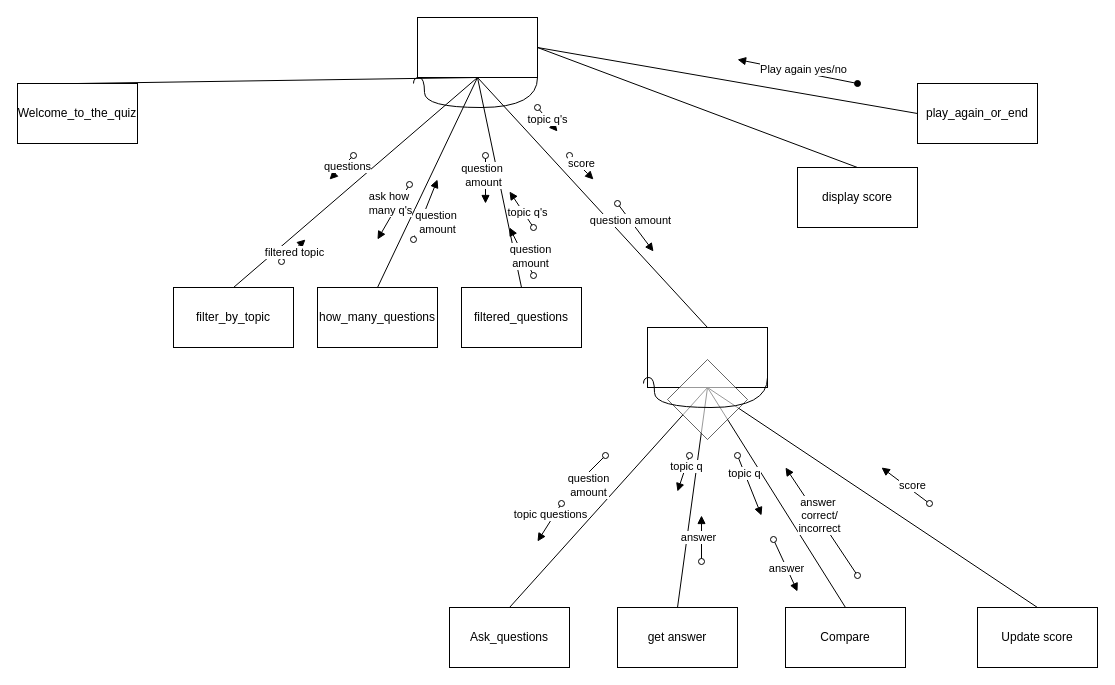
Image size: 1115x685. Some labels were removed from this diagram. Here are the shapes that lost their labels. From the top down, the box of each, then its label:
(416, 16, 538, 78): Main
(646, 326, 768, 388): quiz
